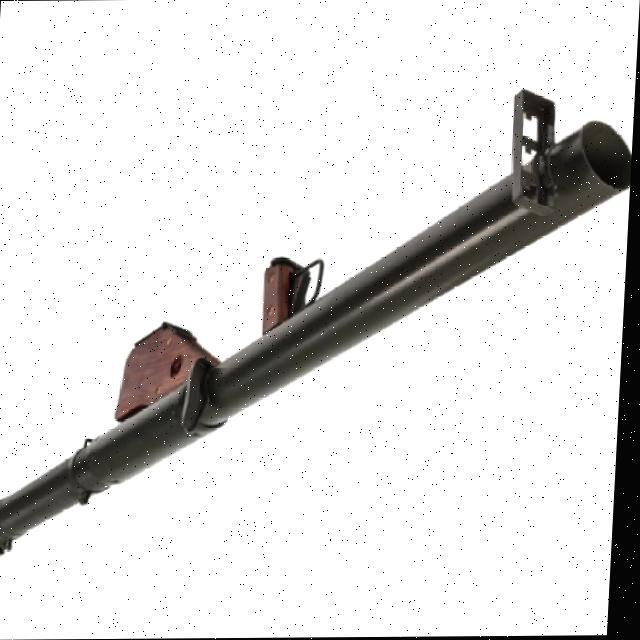rocket: (0, 93, 636, 600)
